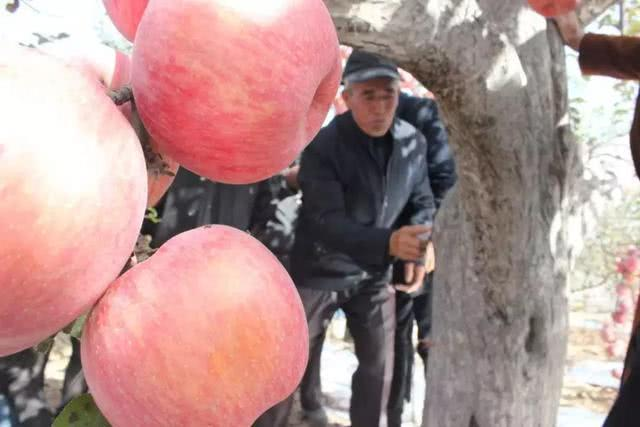apple: (0, 29, 151, 360), (76, 221, 309, 421), (124, 0, 340, 182)
